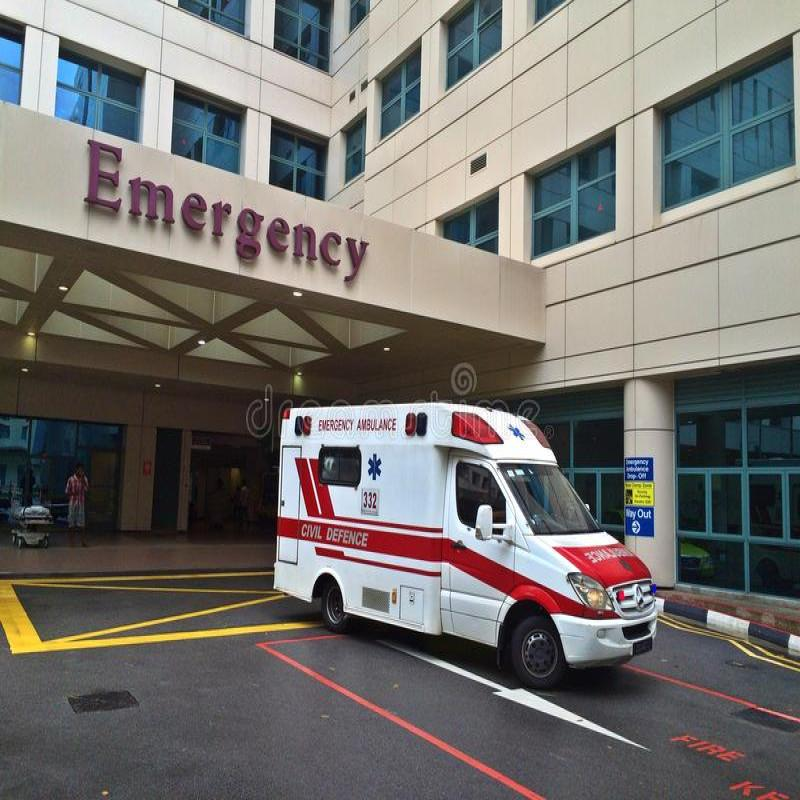ambulance: (268, 389, 676, 700)
